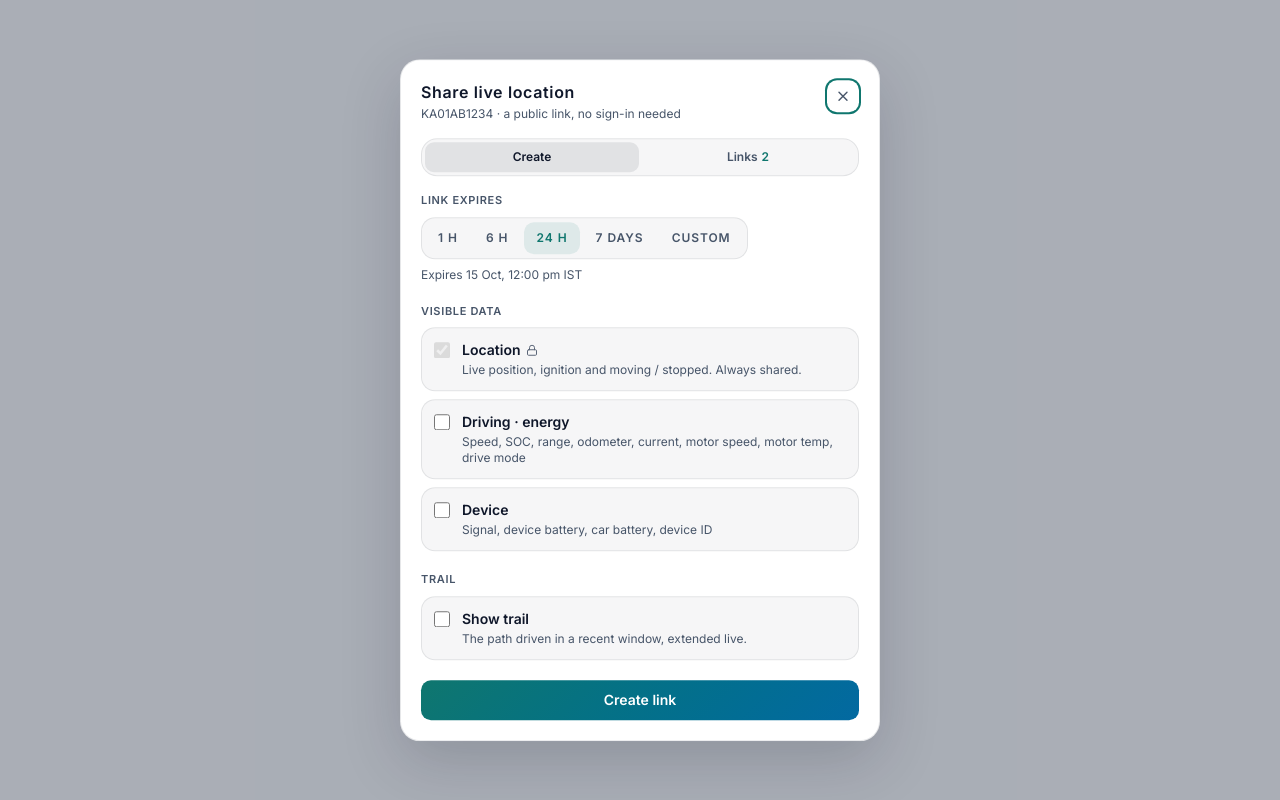
Test: F10-T2: copy failure › a failed copy says so
This screenshot has width=1280, height=800.
Check: the dialog "Share live location" is shown, box [400,59,880,741]
Click the button "Create link". click: point(640, 700)
box: [421,680,859,720]
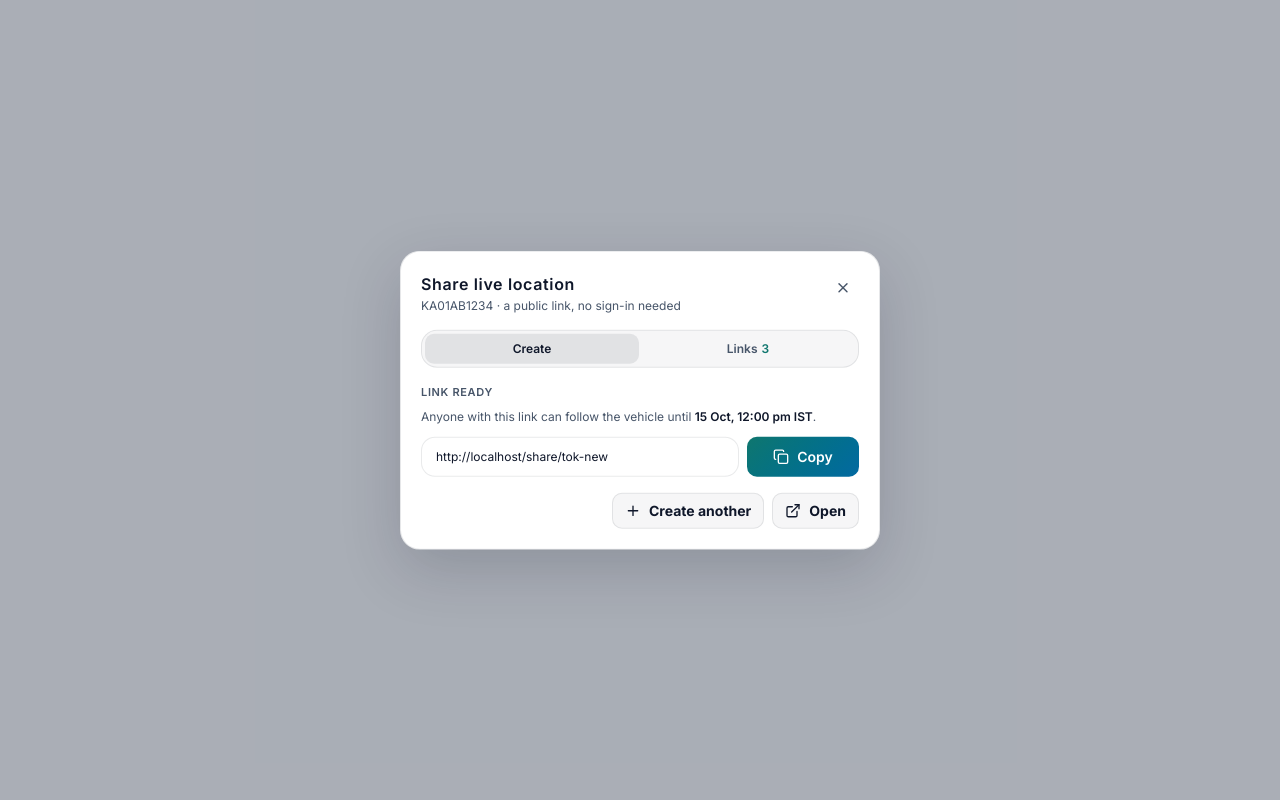
Check: the field named "Share link URL" is shown, box [421,436,739,476]
Click the button "Copy". click: point(803, 456)
box: [747,436,859,476]
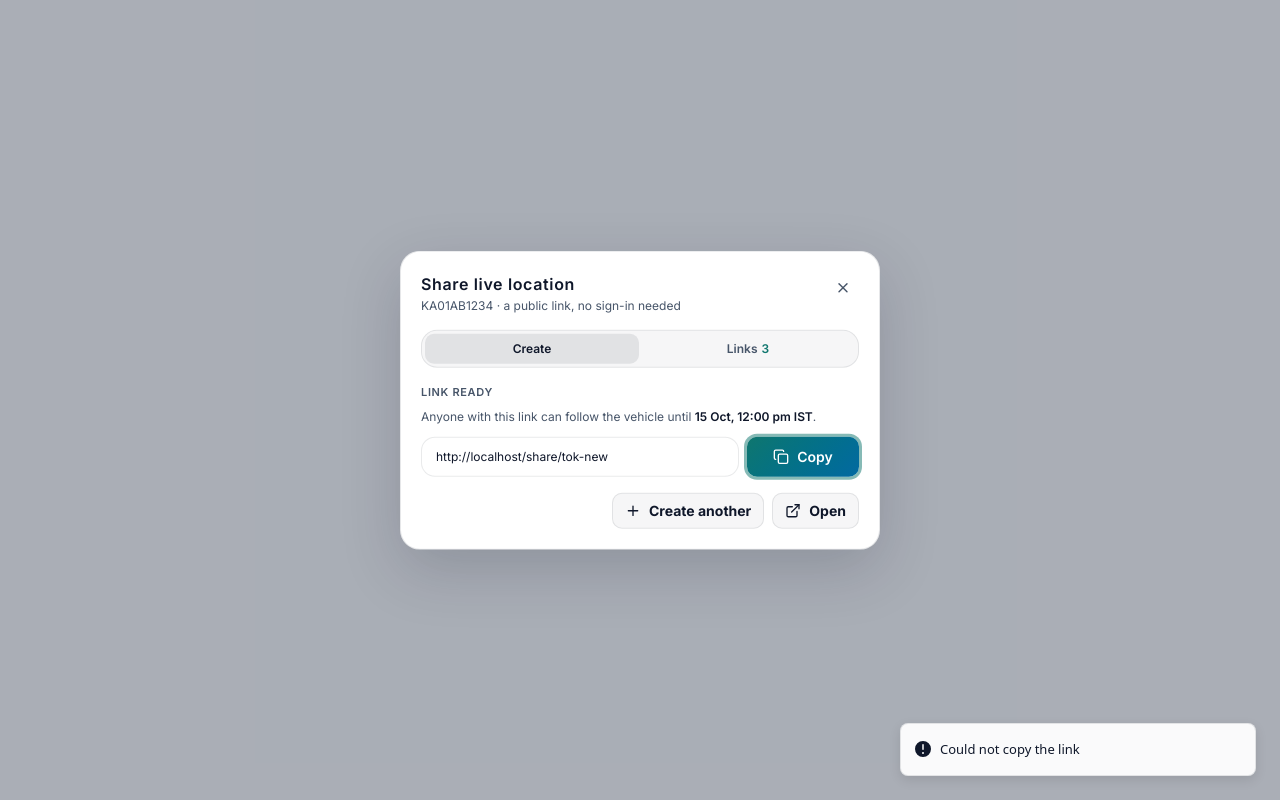
Check: the button "Copy" is shown, box [747,436,859,476]
Check: the text "Could not copy the link" is shown, box [940,740,1080,759]
